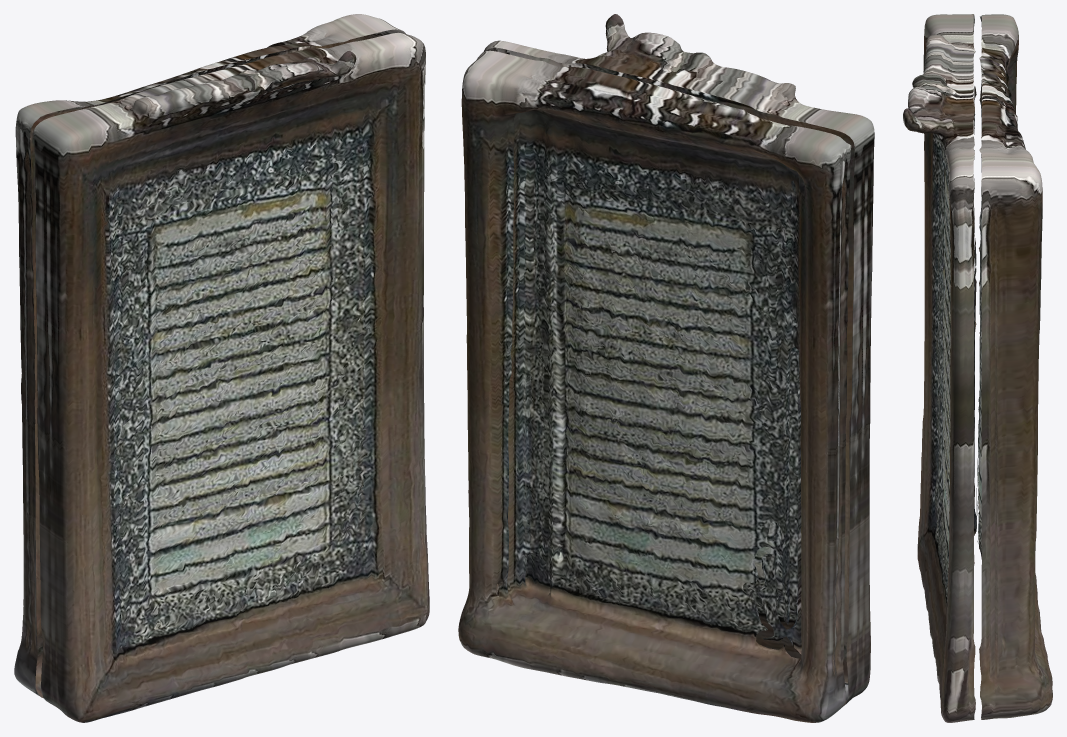
File: kfl-2190.glb
3 renders of one model, left to right at view 1: azimuth 30°, elevation 25°; view 2: azimuth 150°, elevation 25°; view 3: azimuth 270°, elevation 25°, orthographic. The views are drawn at different scales.
Parts seen in each view (by area): view 1: geometry_0; view 2: geometry_0; view 3: geometry_0.
Boxes of the visible parts, bbox=[...] form: geometry_0: bbox=[14, 14, 429, 722]; geometry_0: bbox=[458, 14, 874, 722]; geometry_0: bbox=[903, 14, 1052, 722].
Bounding box in the file's own units: 0.6444 × 0.9912 × 0.2339.
Materials: 1 (1 with a texture image).
